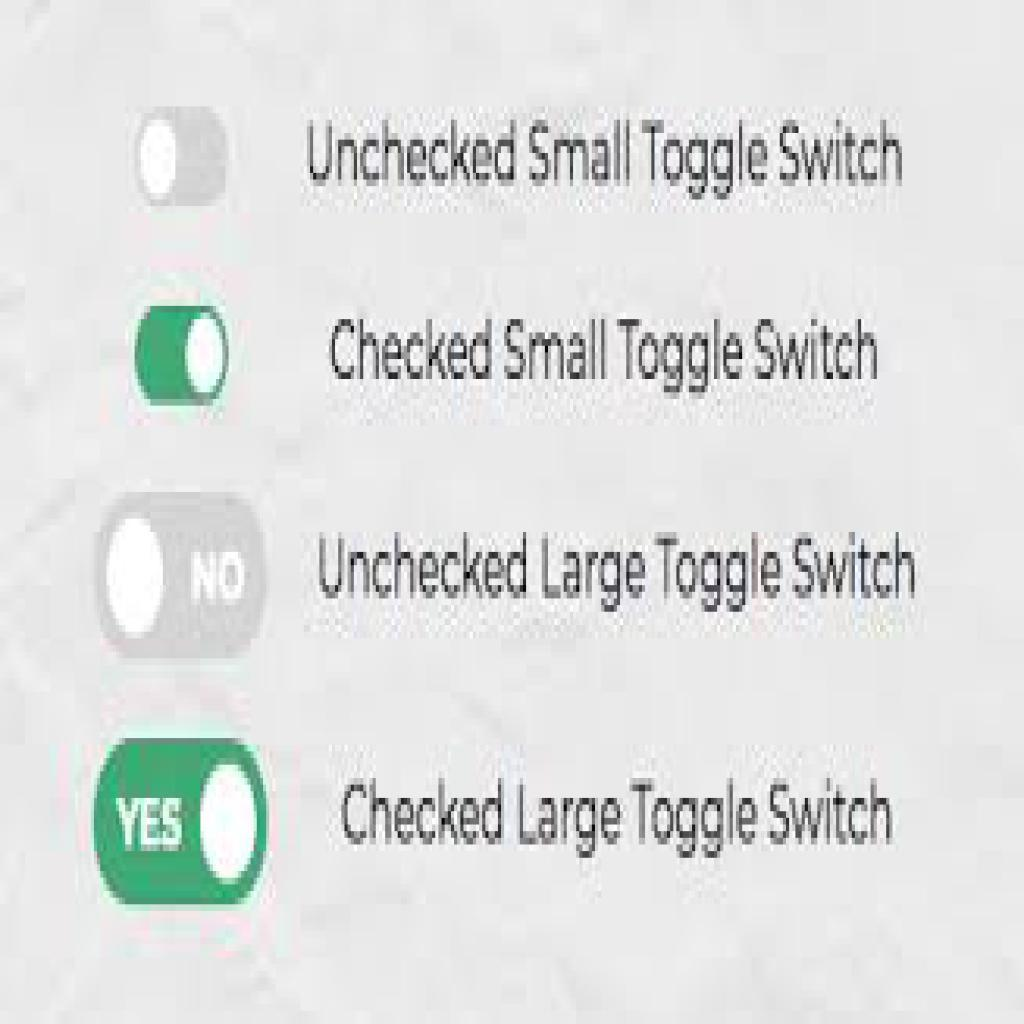switch: (91, 739, 272, 907), (93, 493, 265, 663), (136, 94, 233, 214), (135, 305, 230, 405)
